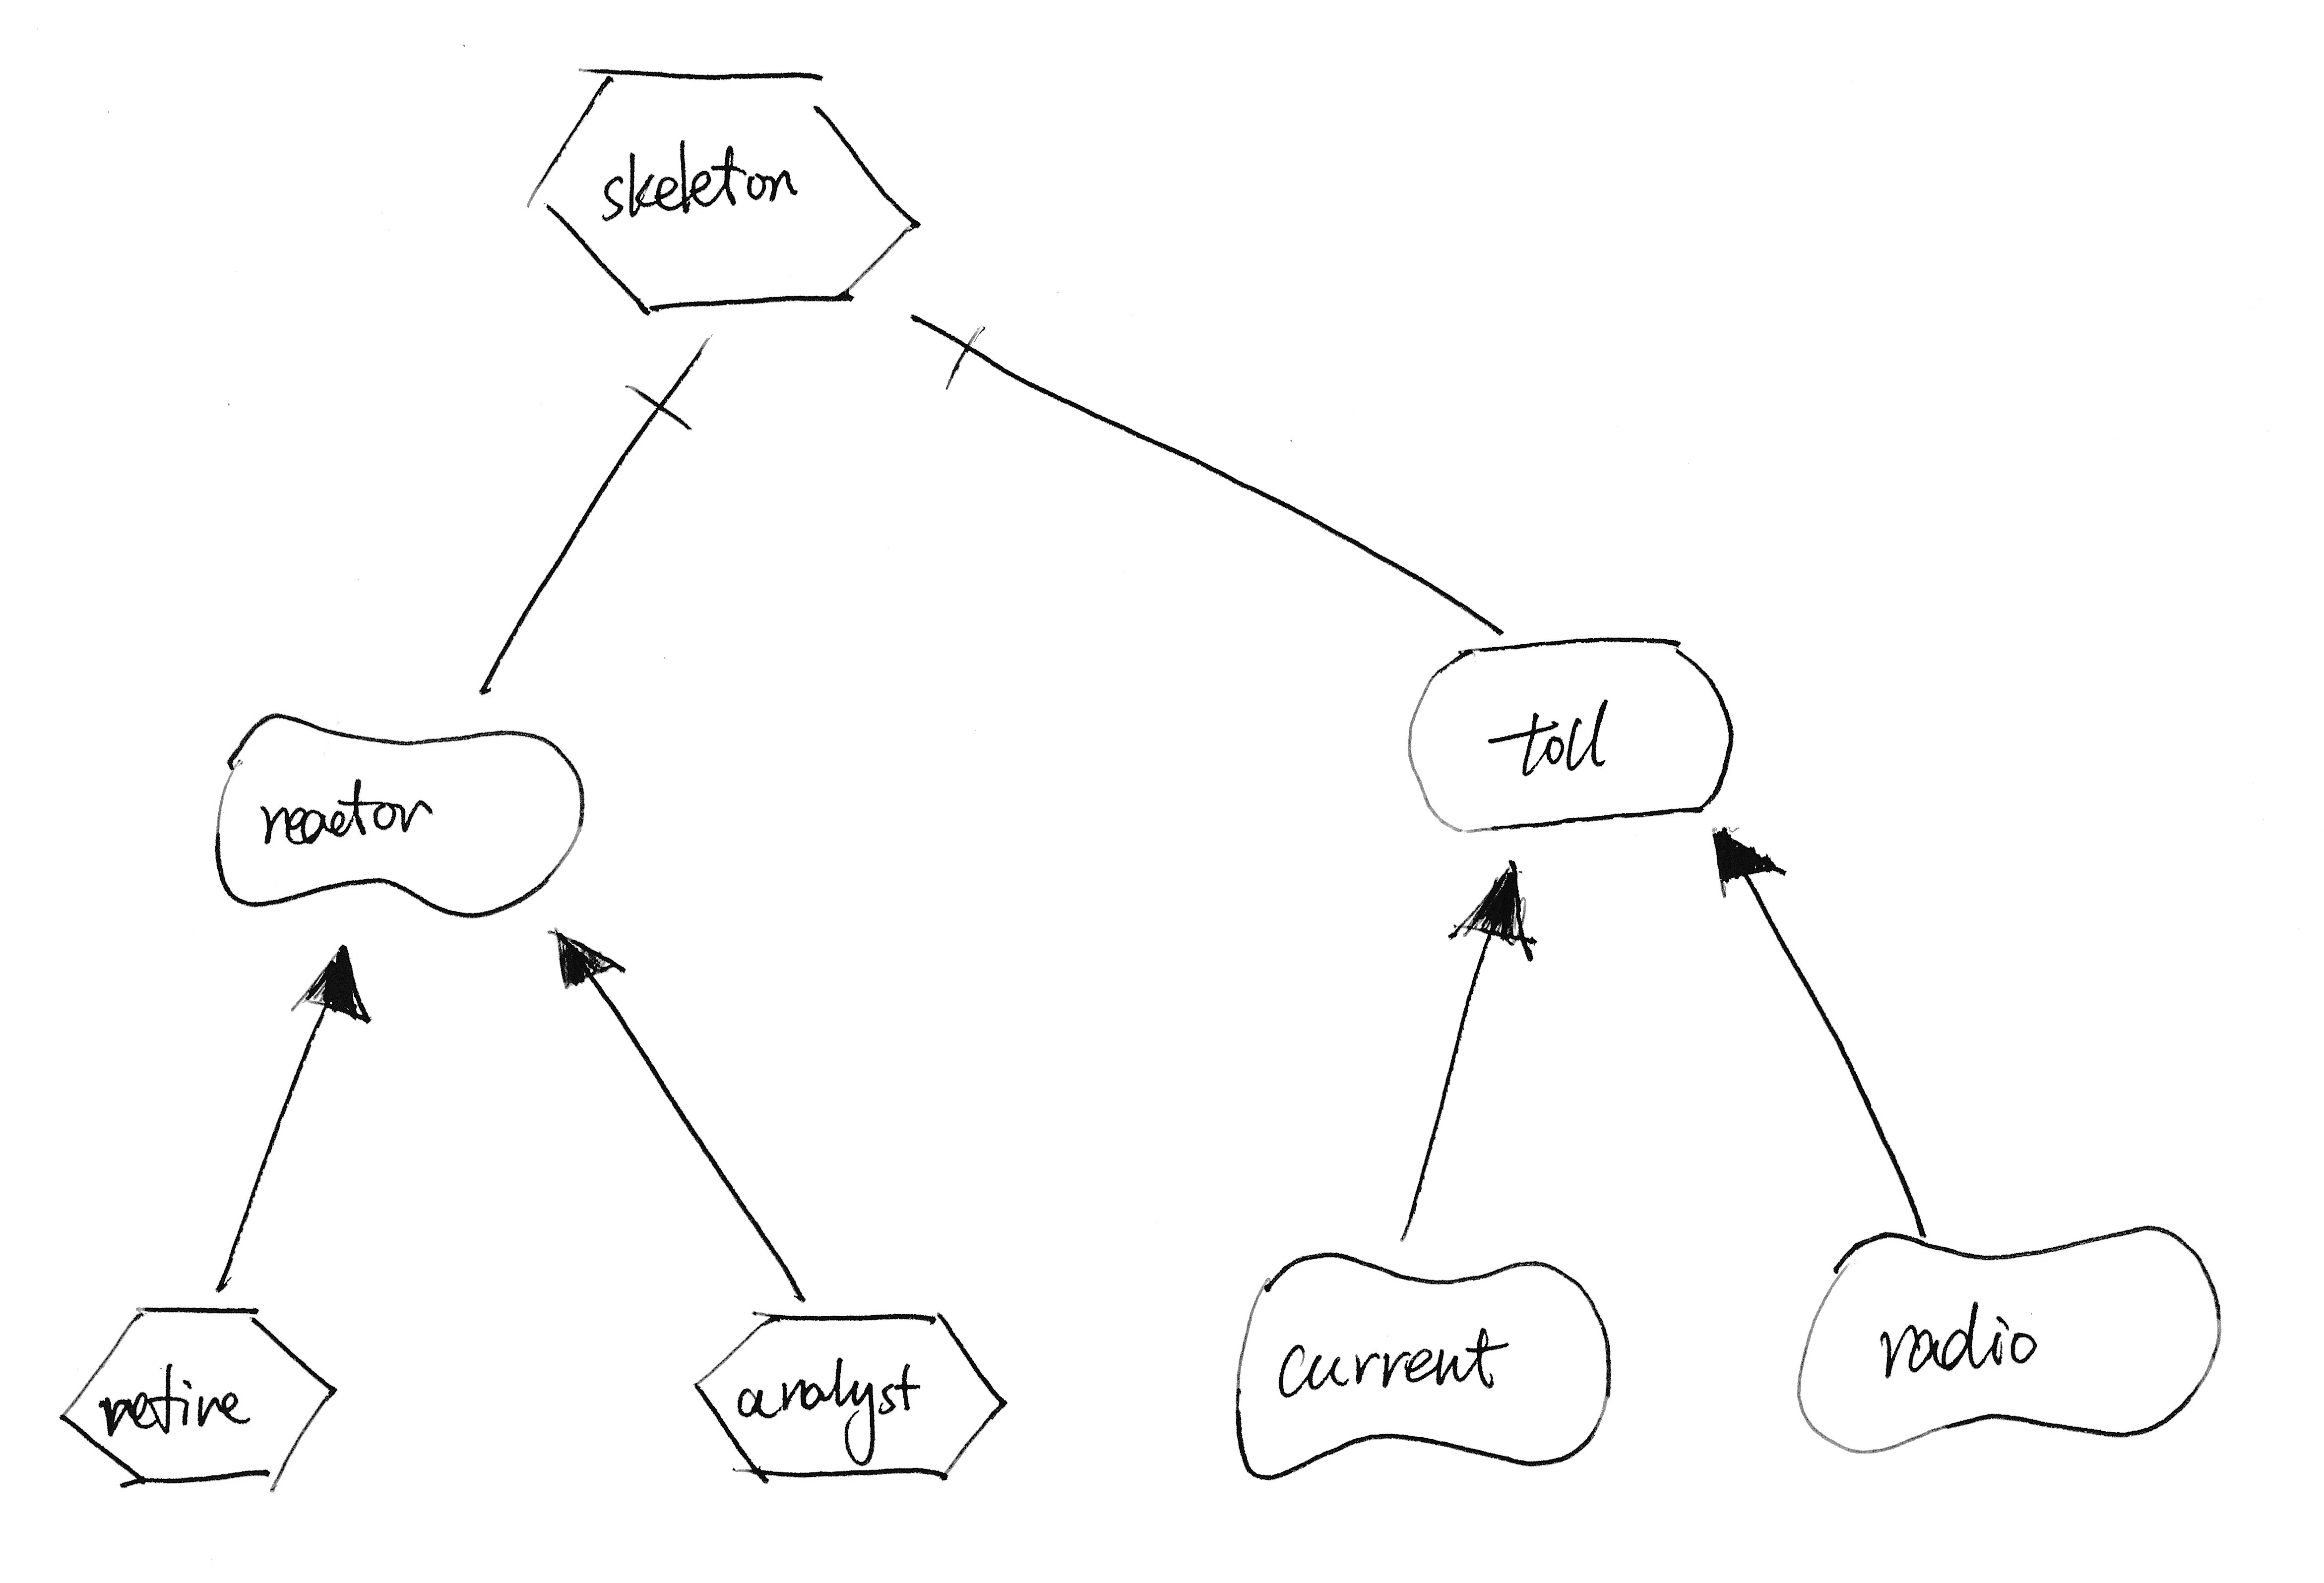and: (604, 346, 708, 454), (913, 314, 1015, 401)
goal: (1383, 625, 1750, 844)
or: (1430, 842, 1563, 981), (270, 927, 387, 1043), (523, 914, 643, 1006), (1701, 819, 1800, 904)
quality: (1785, 1216, 2241, 1461), (1222, 1237, 1625, 1491), (194, 697, 597, 928)
task: (512, 39, 952, 328), (676, 1297, 1022, 1498), (44, 1288, 348, 1512)
